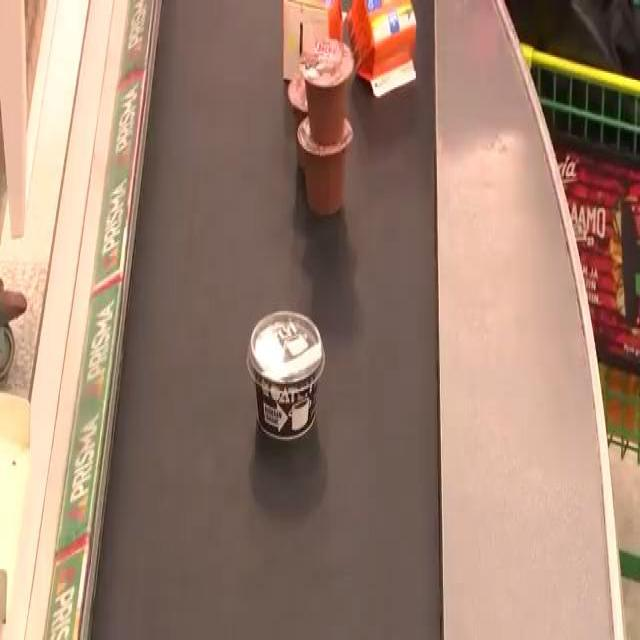food-box: (232, 278, 336, 451), (301, 108, 358, 217), (302, 38, 354, 134)
